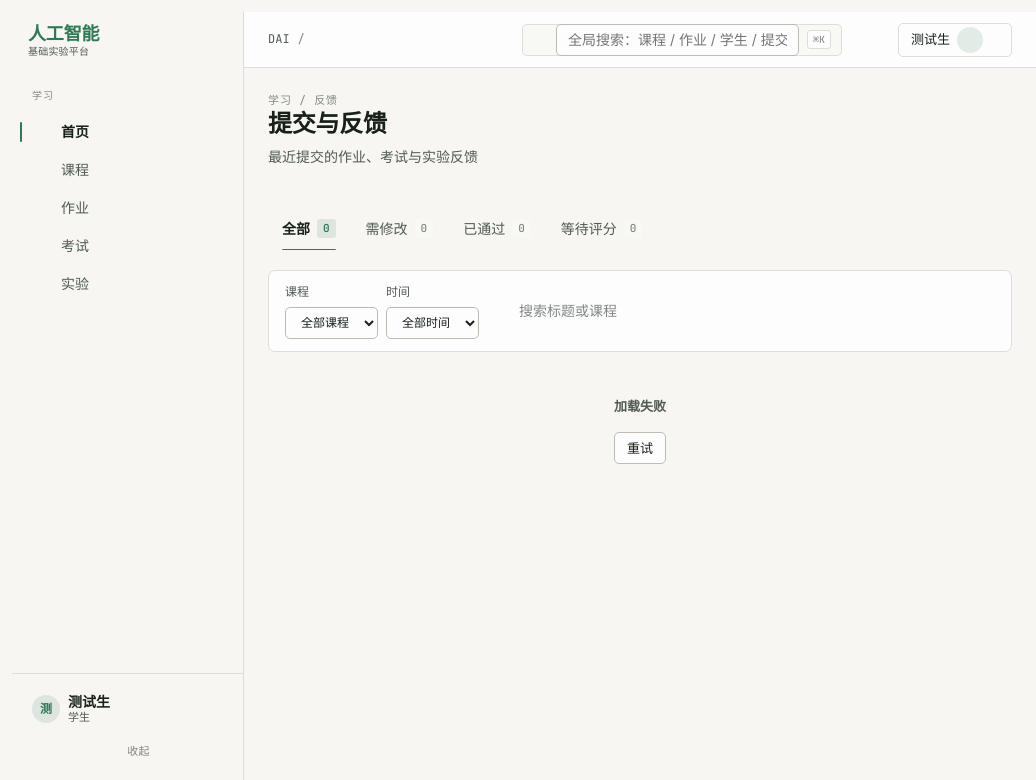
Test: 提交与反馈 FeedbackListView（参考图 01） › 请求失败展示错误并可重试
The image size is (1036, 780).
Step 1. Click the button with class "retry-btn" → (640, 448), box left=614, top=432, right=666, bottom=464
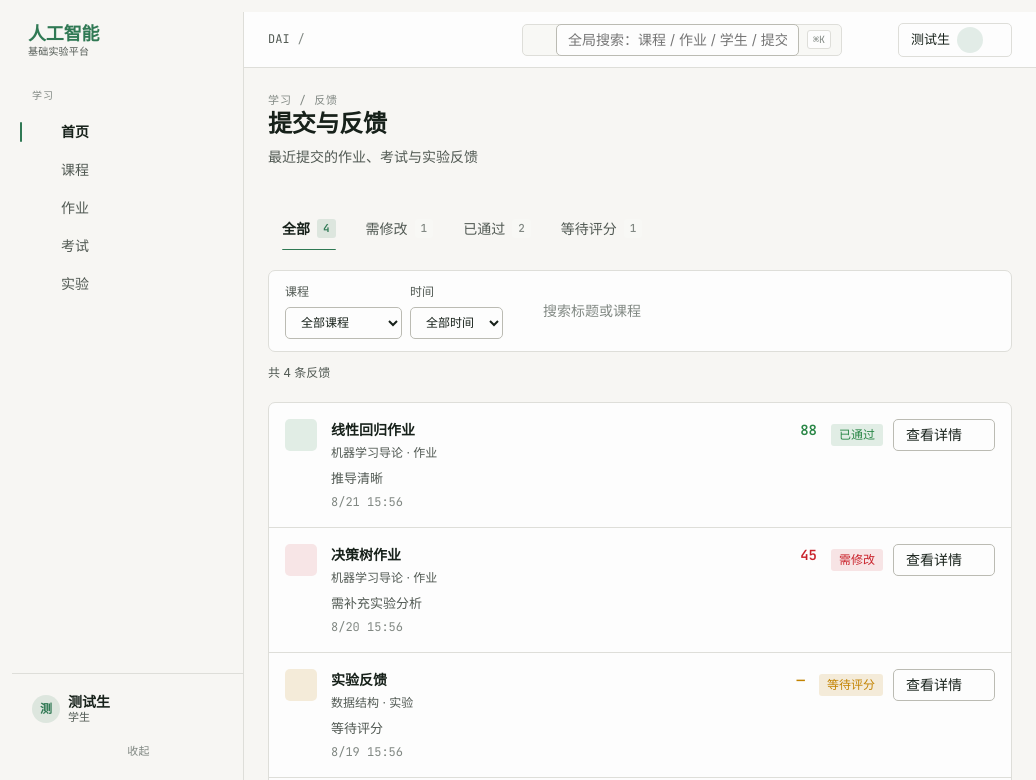
Result: the text "线性回归作业" is shown at left=331, top=419, right=415, bottom=441
